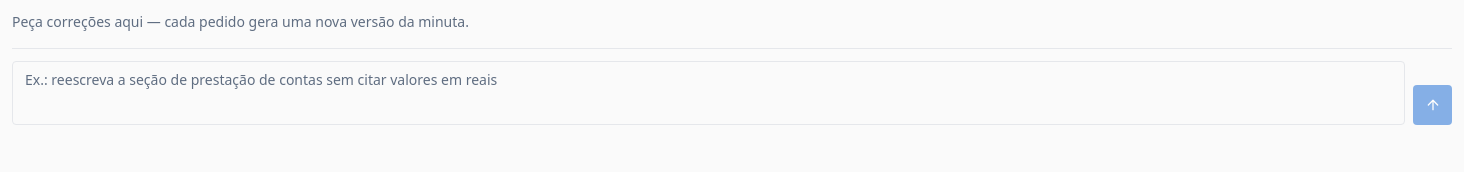
AtaMinutaChat › sends the trimmed instruction and clears the input
Replace the text in the text box named "Instrução para a minuta" with "  Deixe mais formal.  " at x=709, y=93, box [12, 61, 1405, 125]
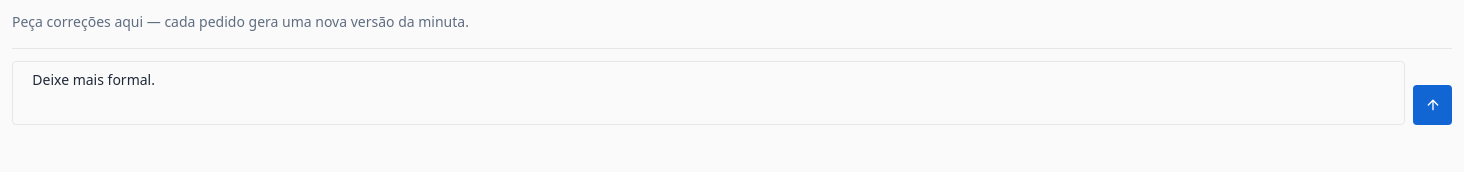
Click the button named "Enviar instrução" at x=1433, y=105, box [1413, 85, 1452, 125]
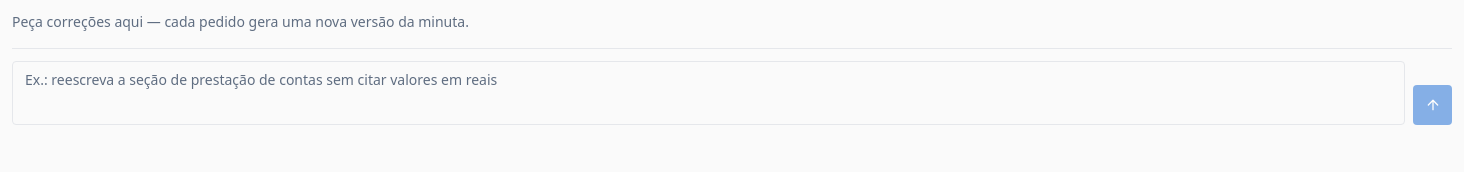
Now the text box named "Instrução para a minuta" is empty, box [12, 61, 1405, 125]
